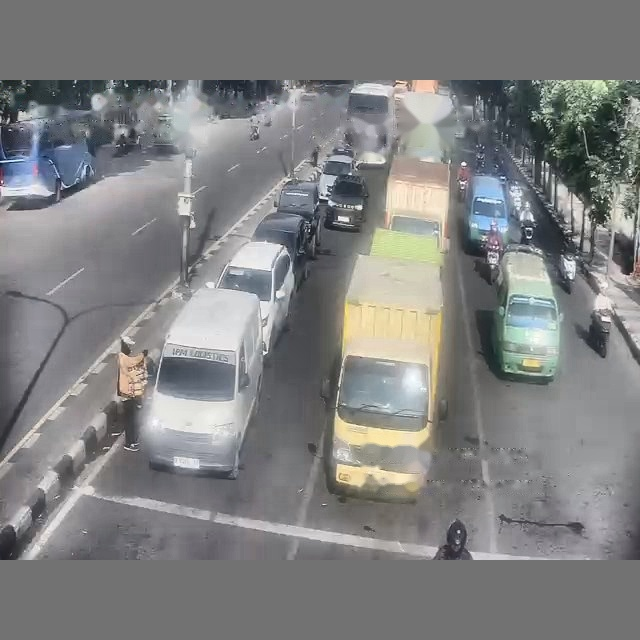Mobil: (216, 241, 294, 355), (252, 213, 308, 290), (274, 179, 321, 259), (325, 175, 368, 230), (318, 155, 356, 202), (331, 145, 355, 158), (301, 90, 318, 100)
Motor: (589, 311, 611, 357), (559, 251, 576, 293), (486, 245, 499, 284), (520, 220, 534, 244), (457, 179, 467, 201), (249, 125, 260, 141)
Truk: (322, 255, 446, 501), (384, 155, 450, 251)
